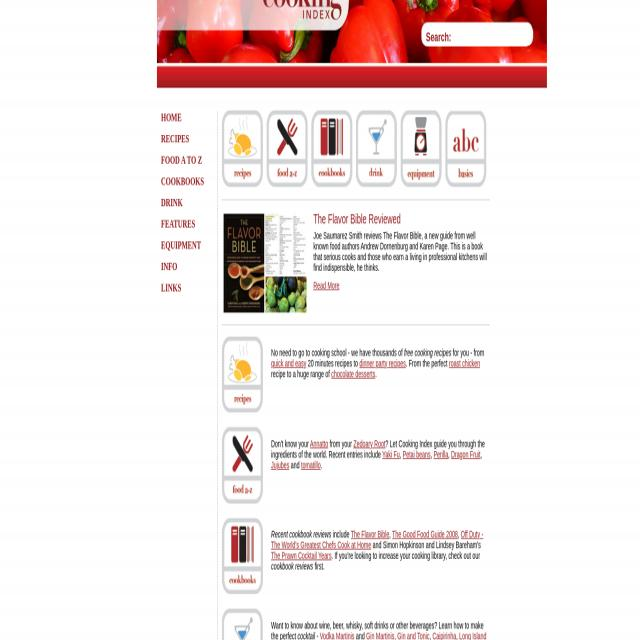button: (222, 212, 307, 314), (266, 110, 308, 187), (222, 110, 263, 187), (356, 110, 397, 187), (401, 110, 442, 187), (222, 336, 263, 412), (247, 0, 344, 32), (312, 110, 352, 187), (222, 520, 262, 597), (446, 111, 486, 187), (222, 427, 262, 502), (222, 609, 263, 640)
field: (422, 22, 533, 46)
